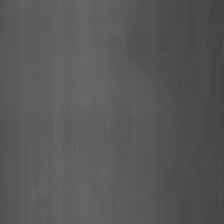silk_spot: (72, 82, 139, 209)
